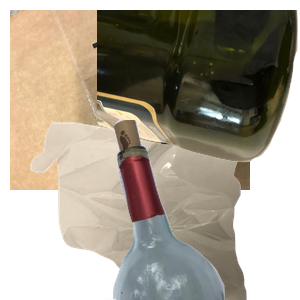cardboard: (10, 10, 250, 190)
glass: (89, 120, 300, 300)
plastic: (97, 10, 300, 165)
trash: (28, 120, 267, 300)
